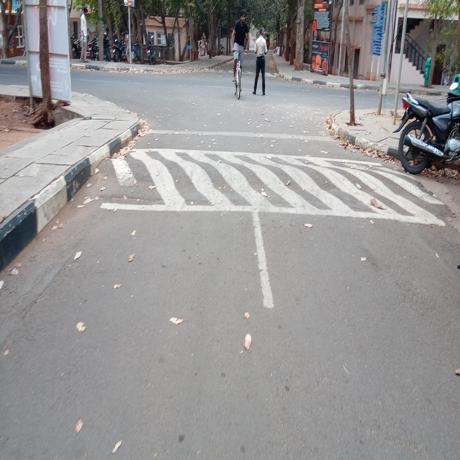Speed Bump: (102, 145, 440, 223)
